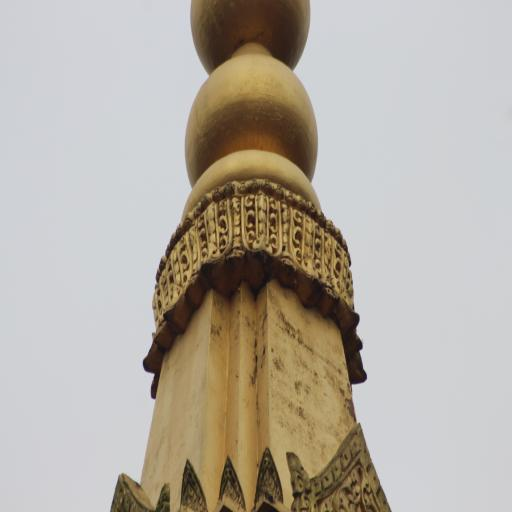la: (289, 206, 325, 282), (240, 192, 282, 256), (198, 196, 232, 265), (168, 234, 191, 304), (332, 238, 348, 302), (152, 278, 164, 328)
